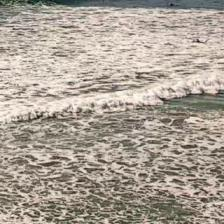surfer: (195, 38, 206, 44), (169, 3, 175, 7), (46, 0, 56, 1)
